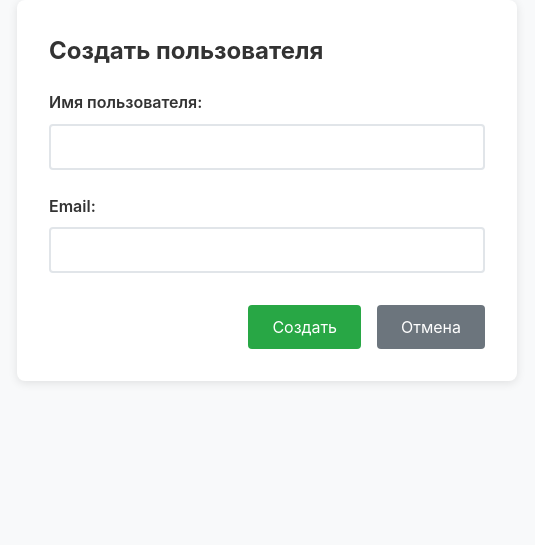
UserForm › validates username length
The width and height of the screenshot is (535, 545).
Type "ab" into the field with test id "username-input" at (267, 147), box [49,124,485,170]
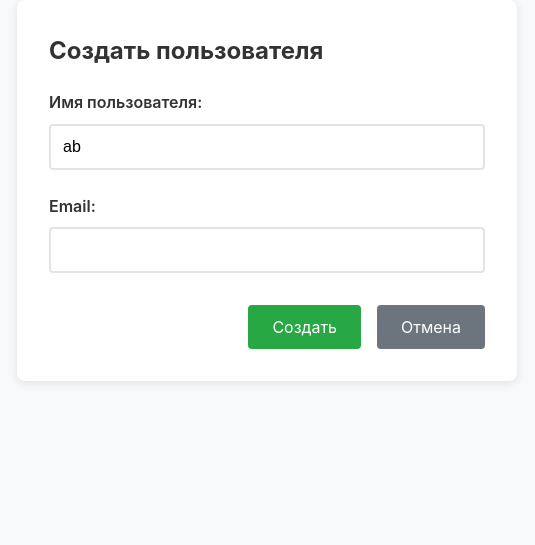
Click the button with test id "submit-btn" at (305, 328), box [248,306,361,350]
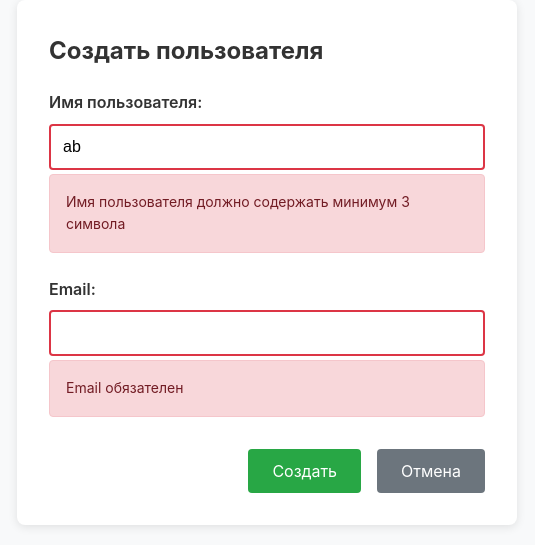
Now the text with test id "username-error" reads "Имя пользователя должно содержать минимум 3 символа", box [66,193,410,232]
